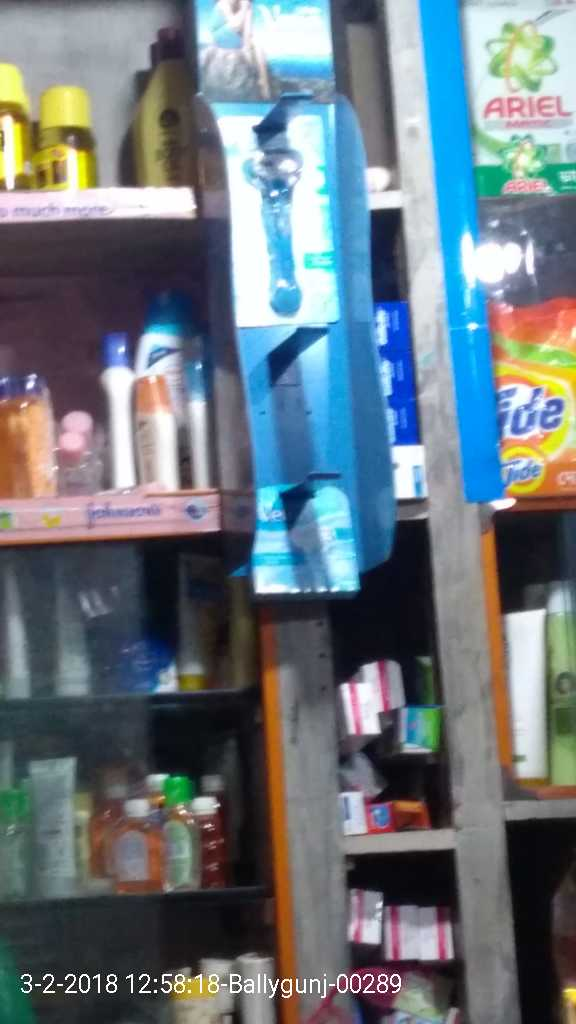home: (463, 1, 576, 203), (482, 299, 576, 497)
